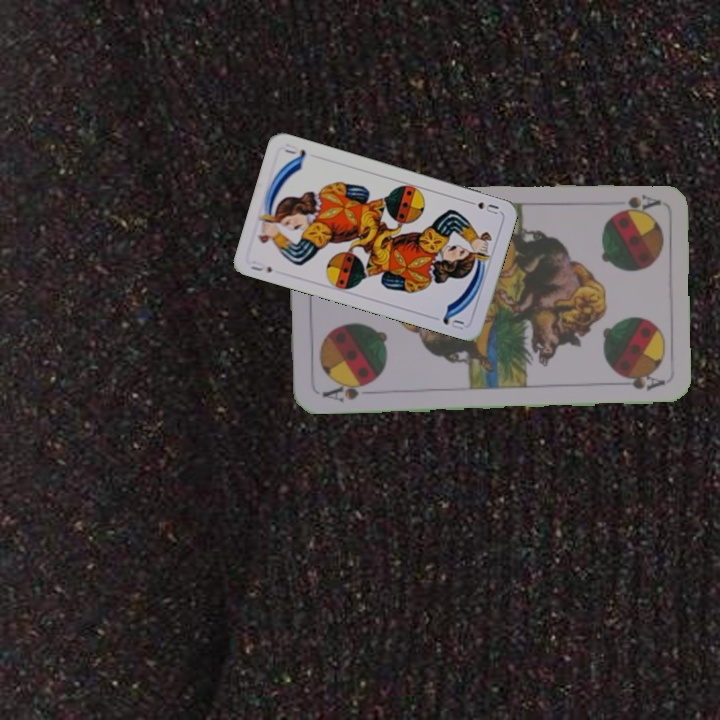SA: (318, 378, 375, 404), (613, 190, 662, 214)
SU: (462, 196, 501, 217), (246, 256, 275, 275)
